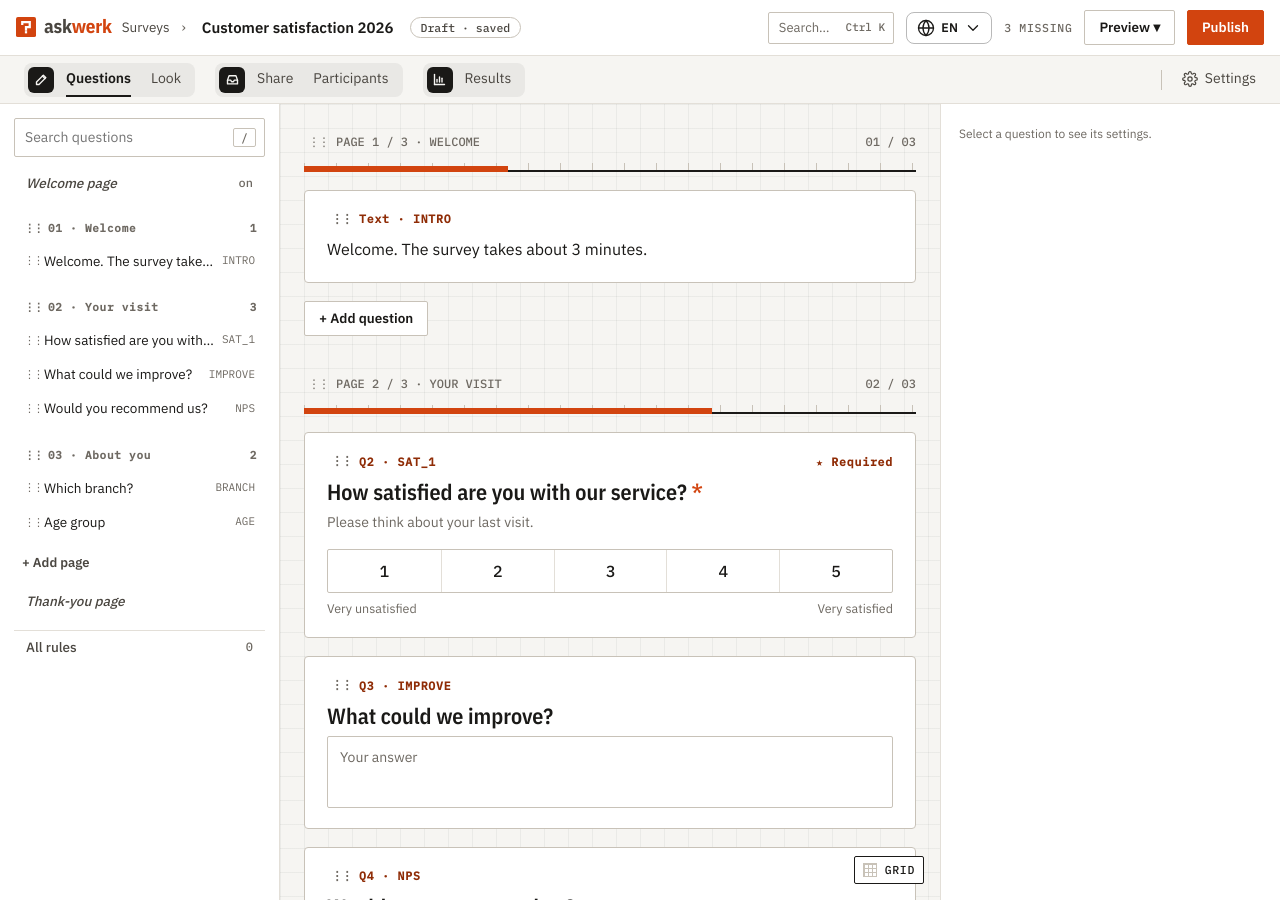
Test: Create → Look (W23, W26) › is its own tab, opens from the command palette, and Build takes the questions back
Check: the navigation bar named "Outline" is shown, box 0,104 -> 280,899
Press k
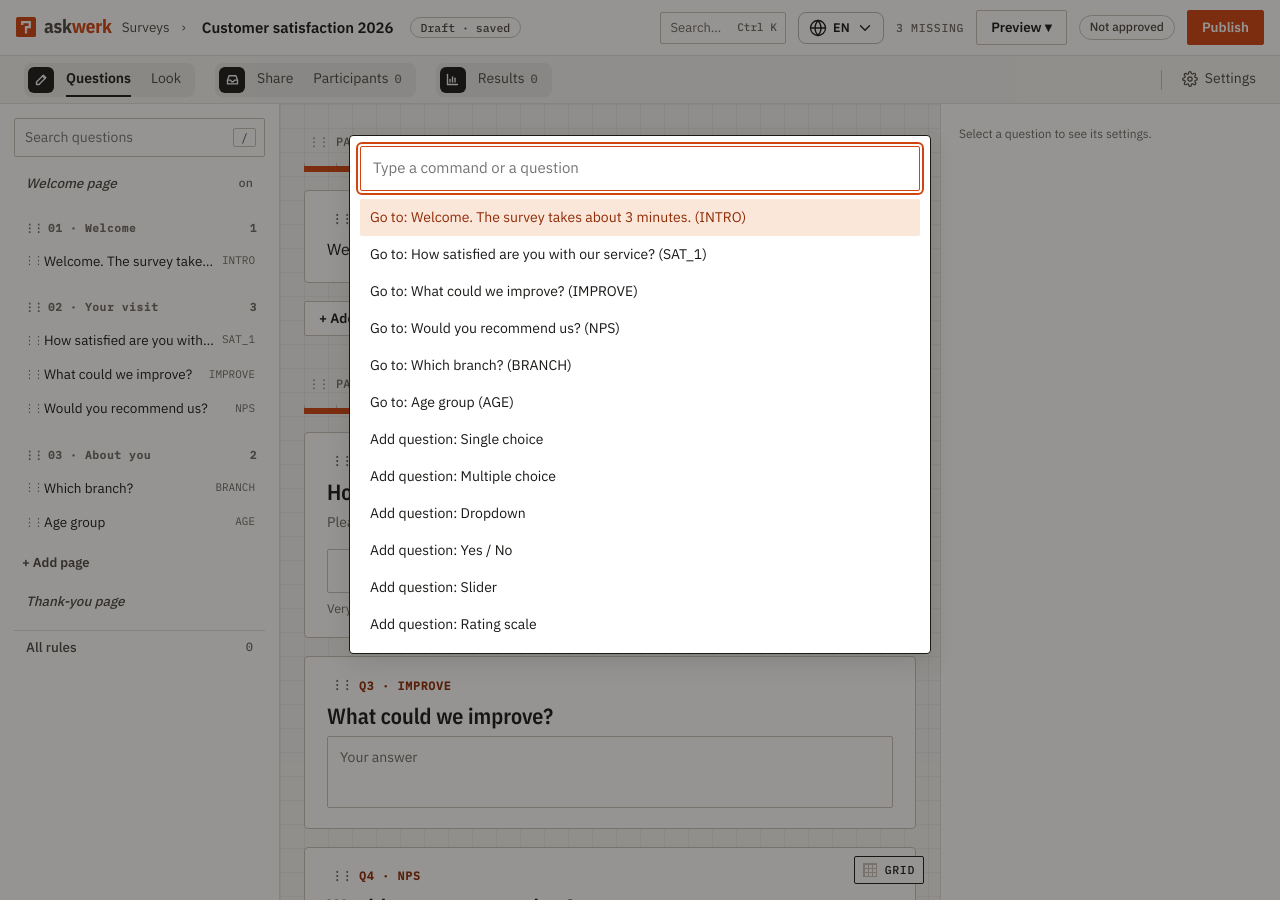
In the dropdown labelled "command": (640, 168) 360,146 -> 920,190, type "look"
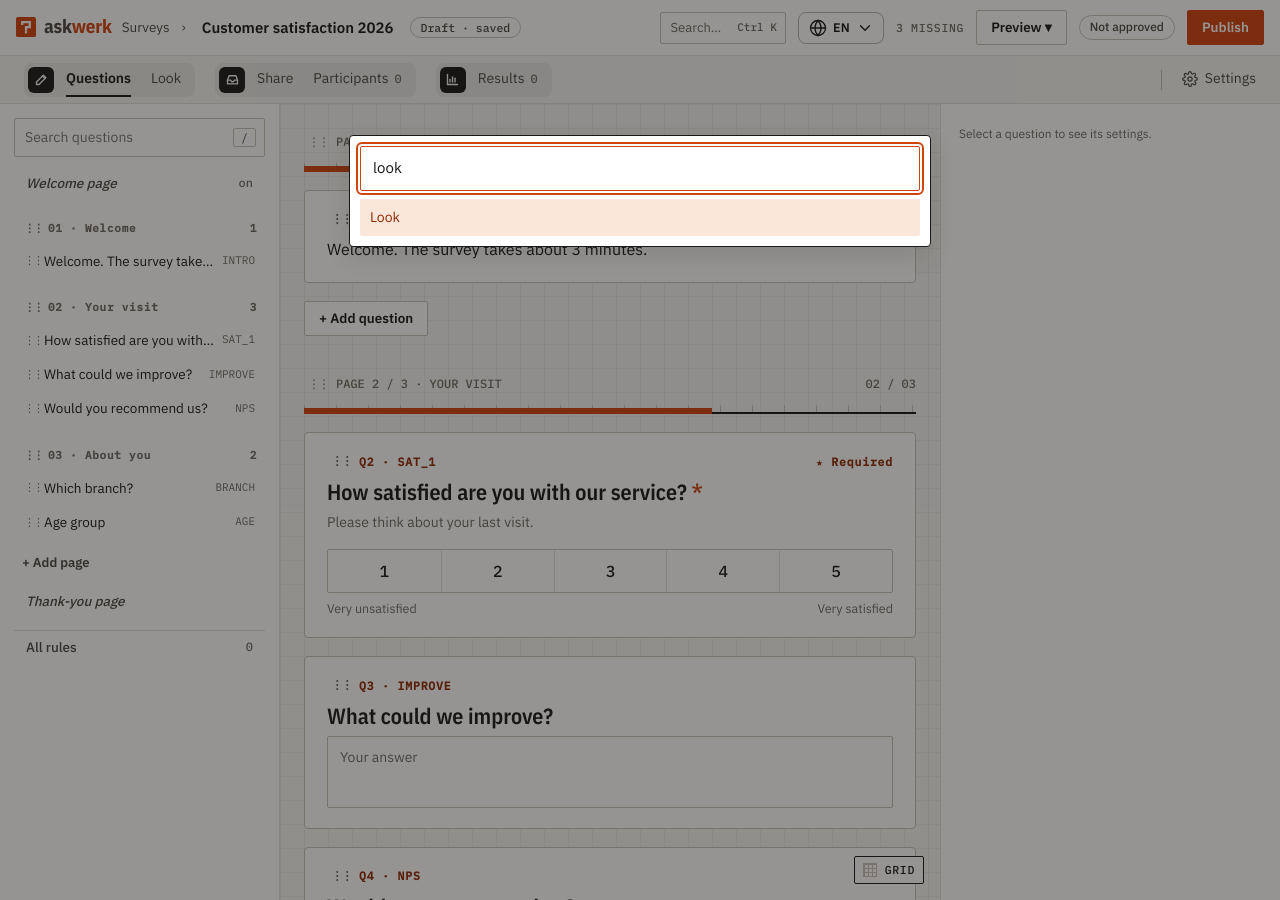
Press Enter in the dropdown named "command", box 360,146 -> 920,190
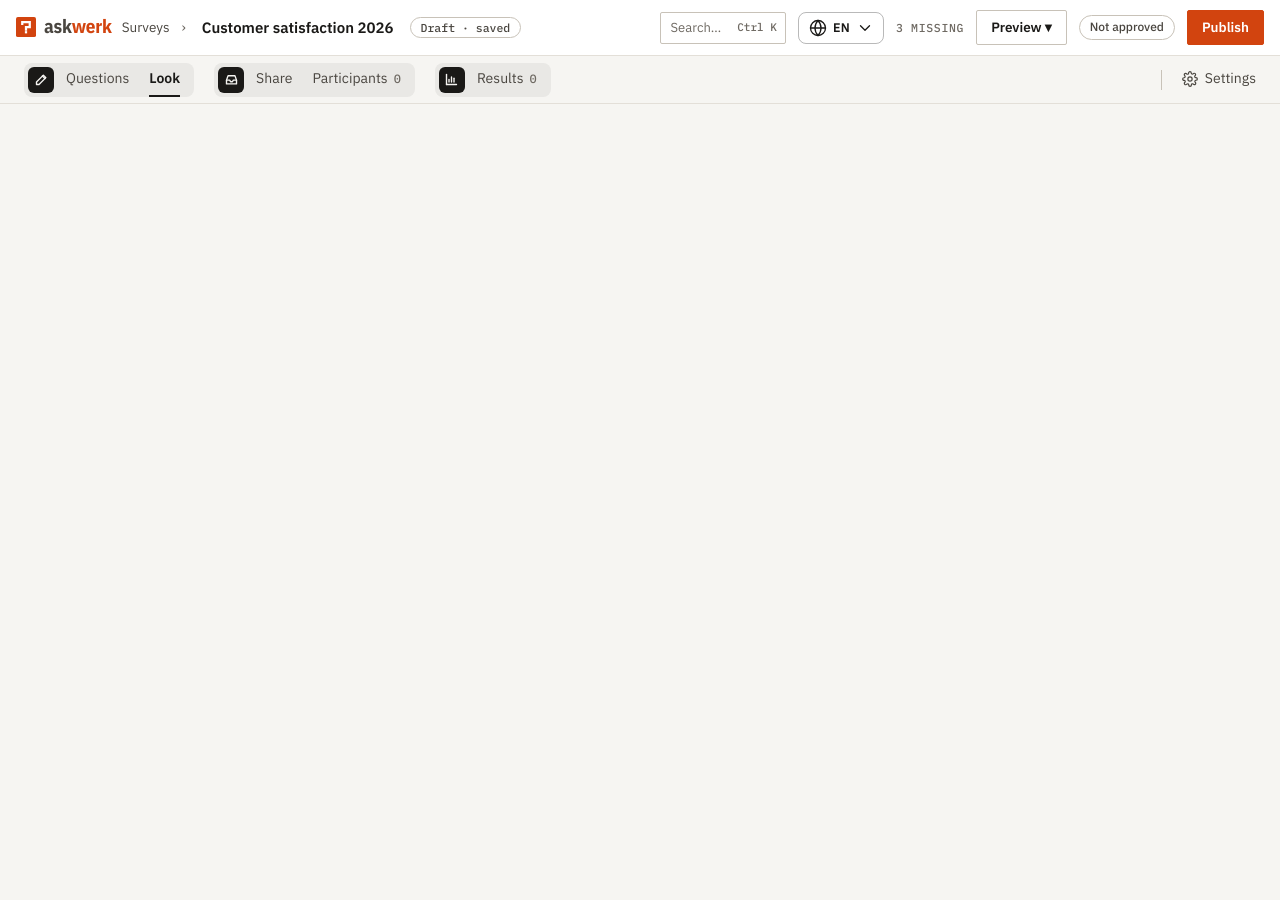
Check: the element named "Look" is shown
Click the link "Questions": (98, 78) 66,69 -> 129,87
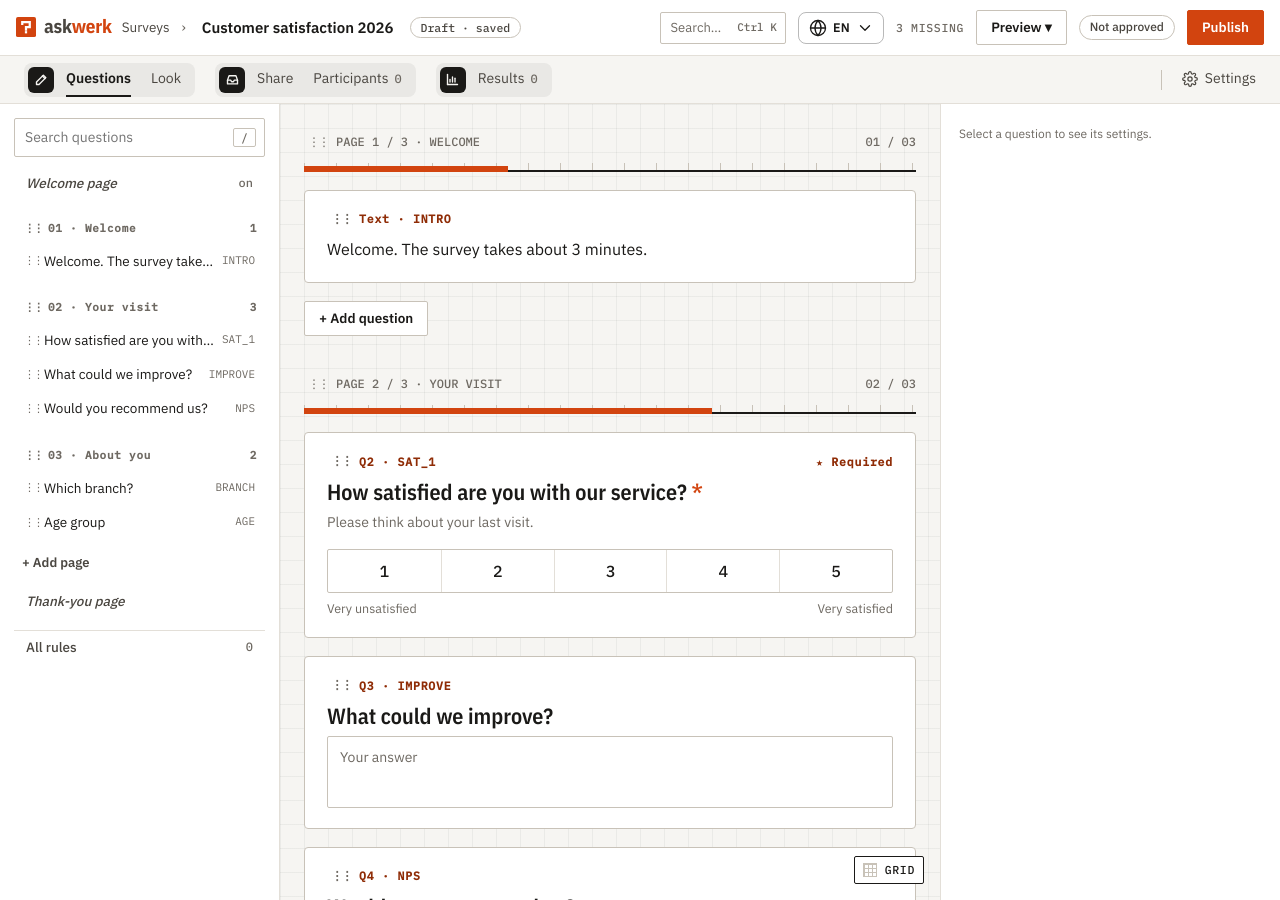
Check: the button "Age group AGE" is shown, box 16,505 -> 263,539
